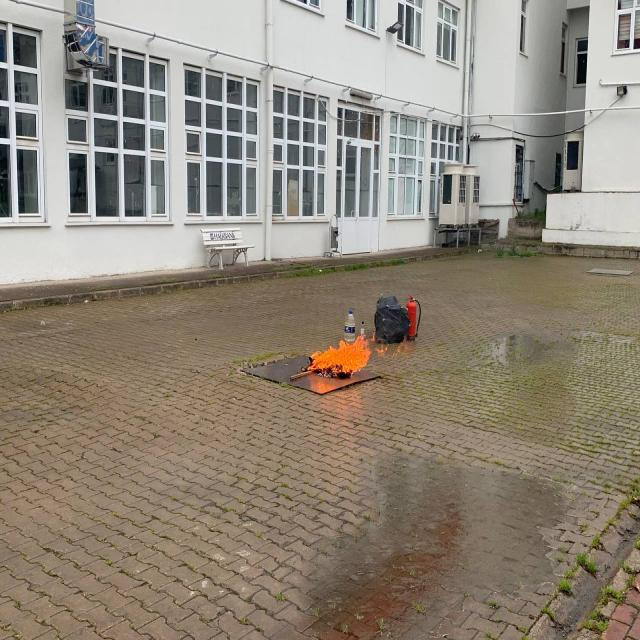fire: (297, 338, 377, 375)
